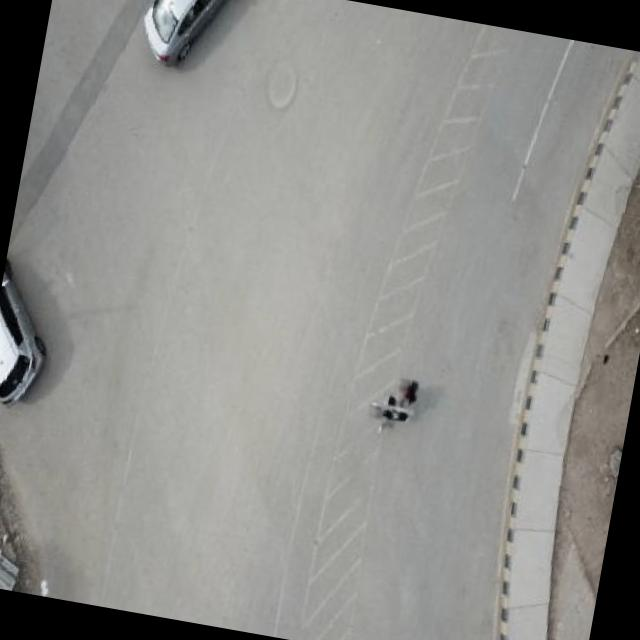Person: (371, 396, 407, 432), (392, 377, 420, 417)
